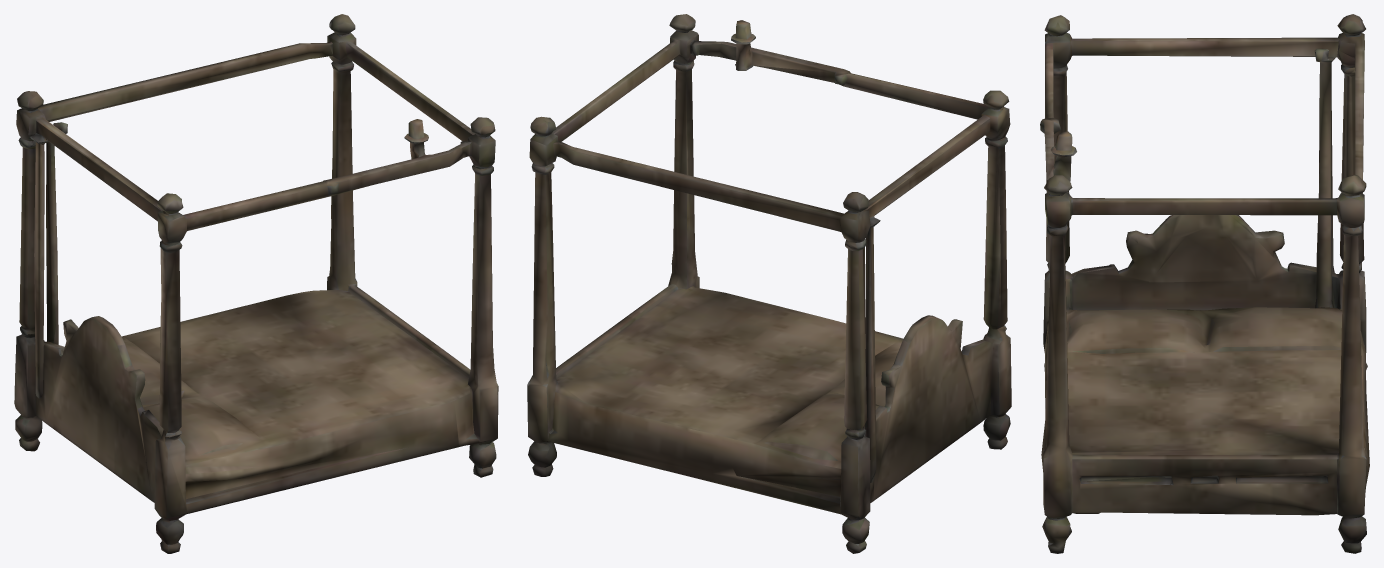
The model's file is old-wood-four-poster-bed-v002.glb.
The picture shows the model from 3 angles, left to right: view 1: azimuth 30°, elevation 25°; view 2: azimuth 150°, elevation 25°; view 3: azimuth 270°, elevation 25°; orthographic projection. The views are drawn at different scales.
Parts seen in each view (by area): view 1: old-wood-four-poster-bed; view 2: old-wood-four-poster-bed; view 3: old-wood-four-poster-bed.
Part boxes in pixels (x1,y1,x2,y2): old-wood-four-poster-bed: [14, 14, 498, 553]; old-wood-four-poster-bed: [527, 14, 1011, 553]; old-wood-four-poster-bed: [1040, 14, 1369, 553].
Size of the model in its own units: 2.11 by 2.2 by 1.7.
1 material, 1 textured.
